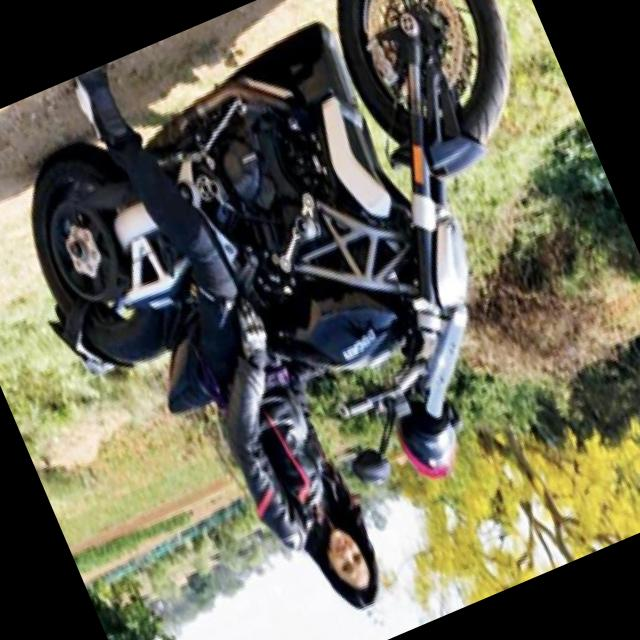bareface: (302, 508, 396, 624)
